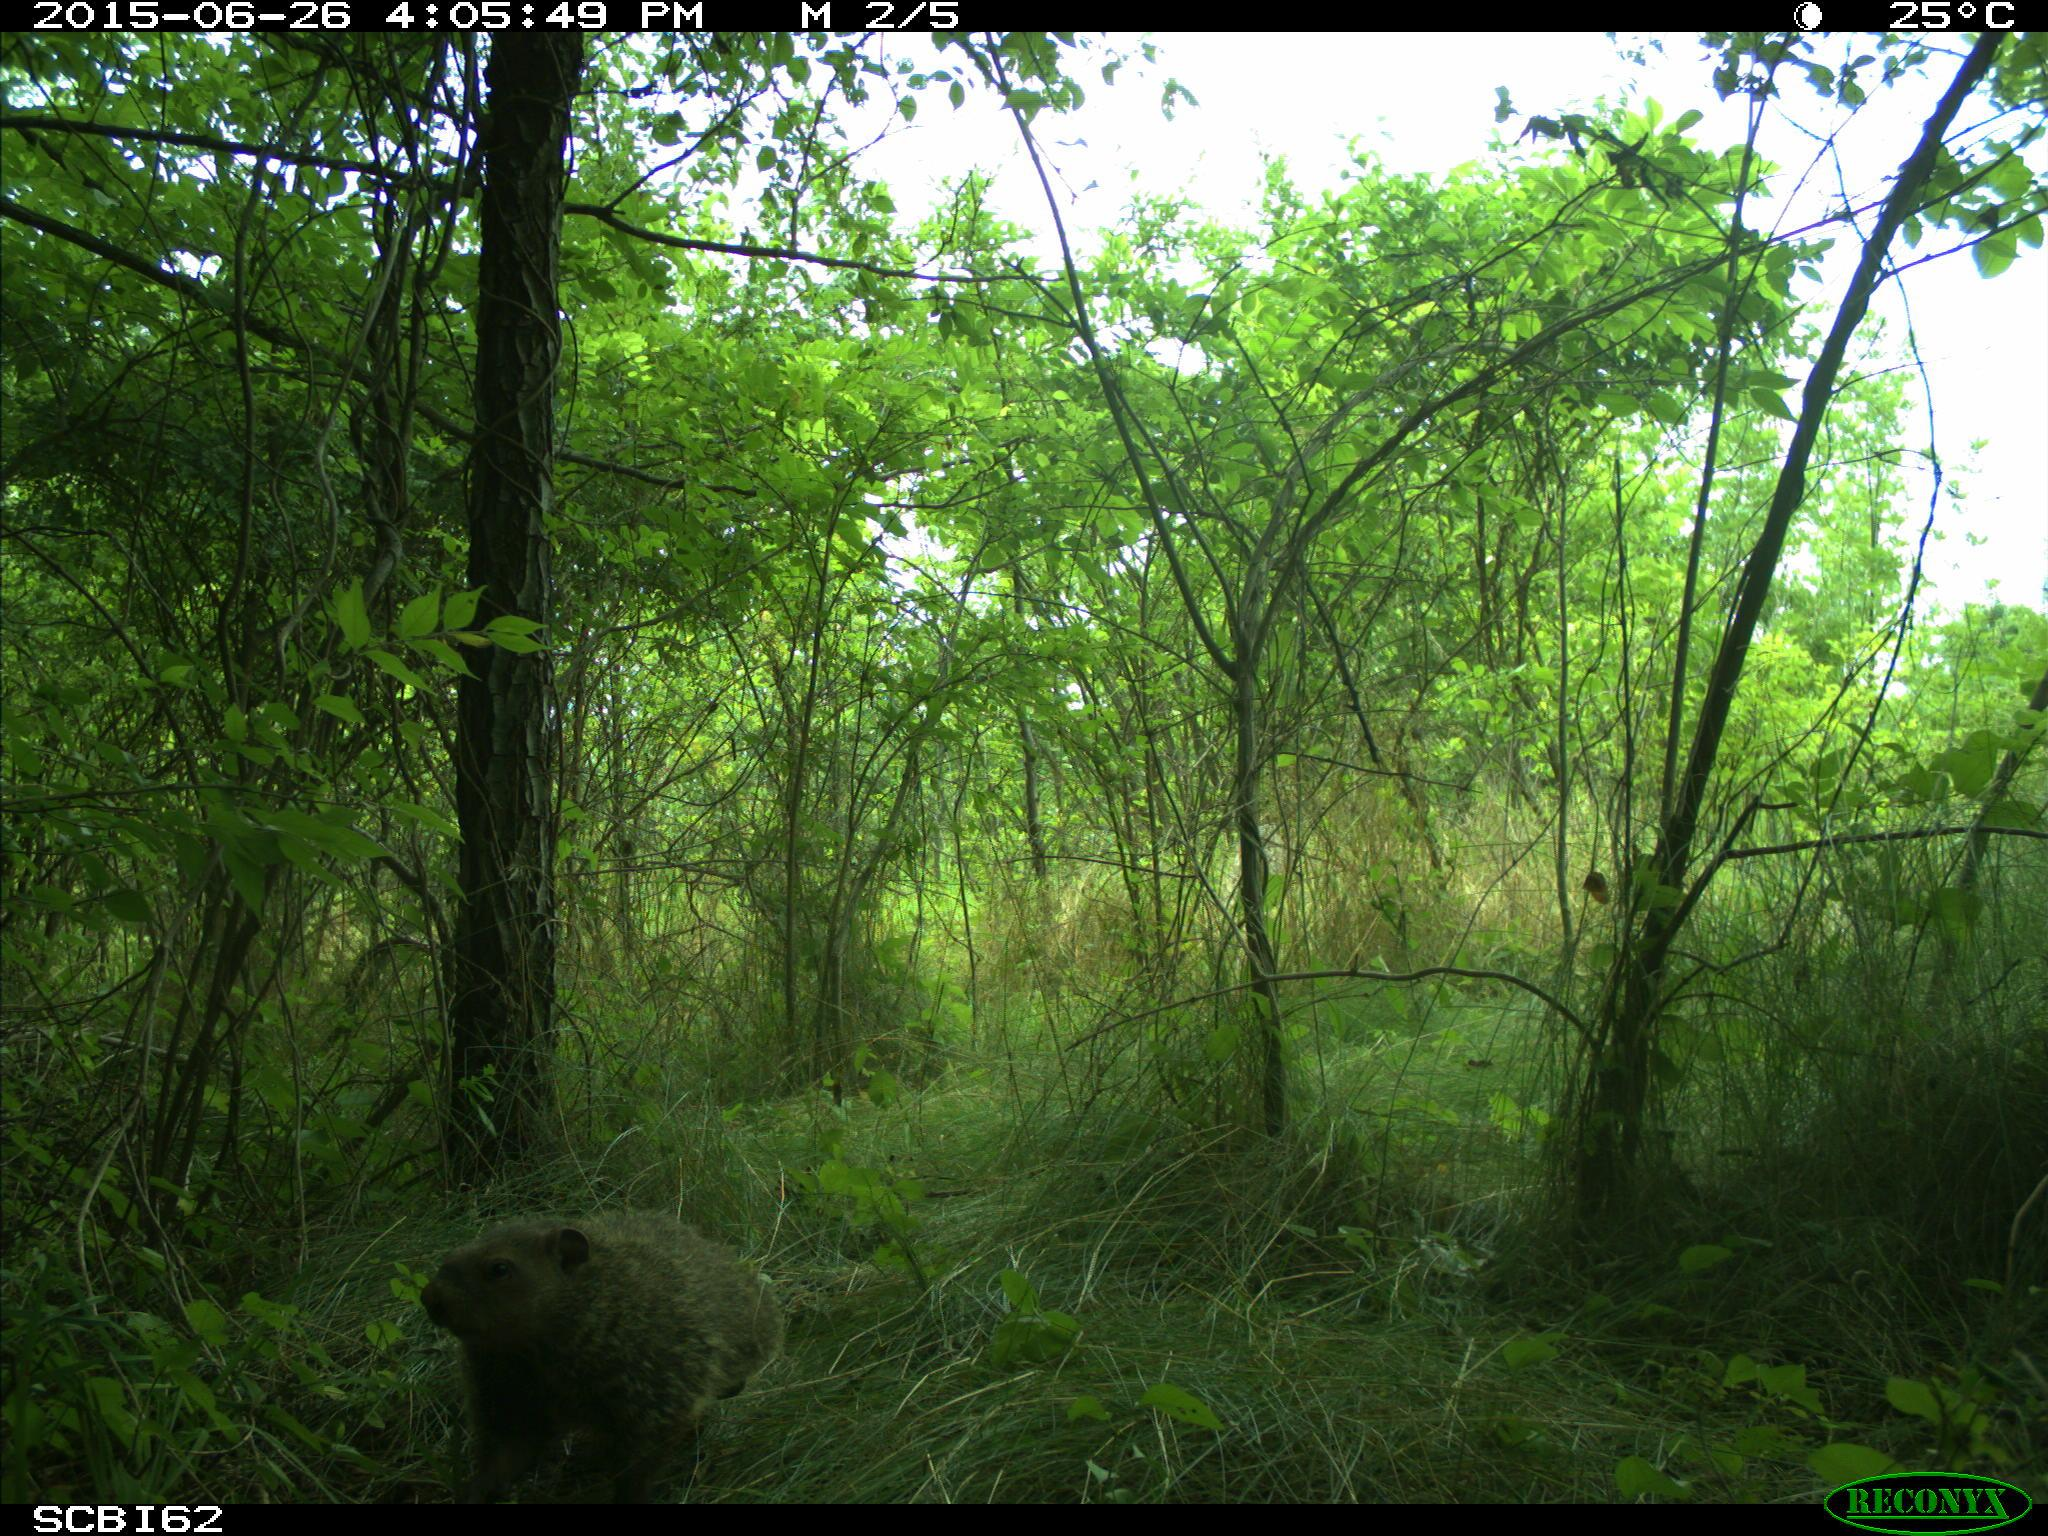Animal: (414, 1204, 777, 1501)
